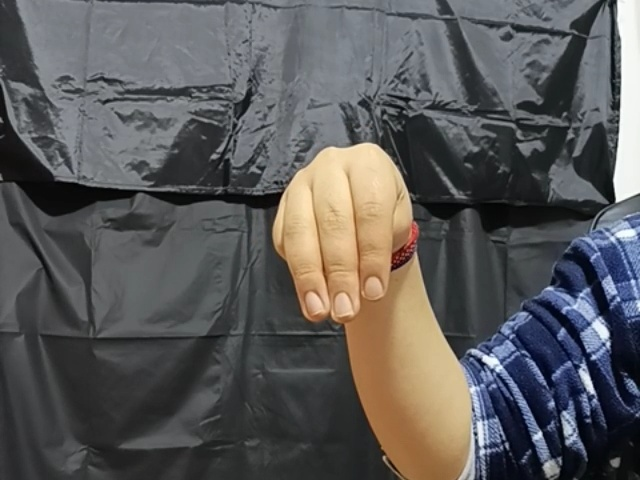M: (275, 141, 420, 324)
